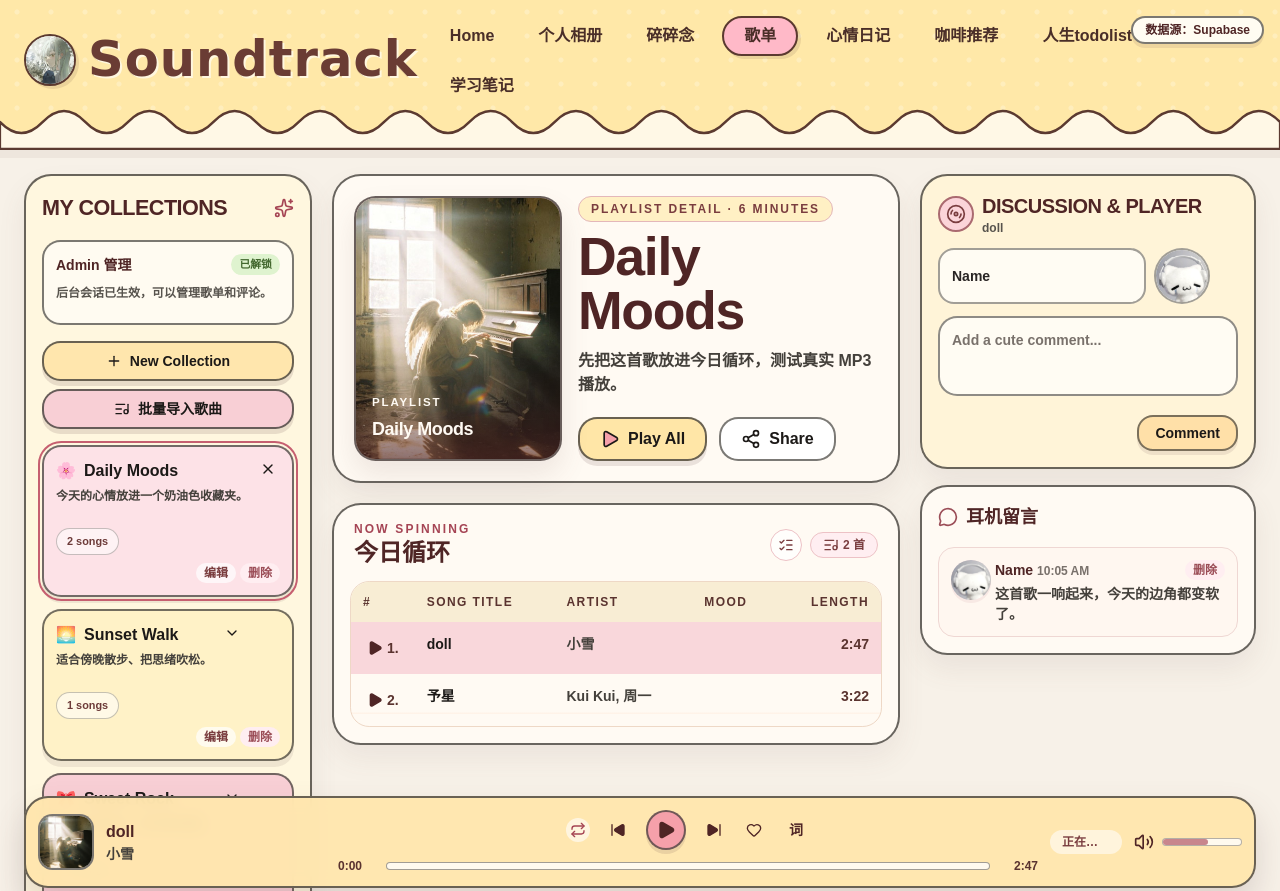
Test: PlaylistsPageView › creates a collection and switches to its empty state
Expected: the text "已解锁" is shown, [231,254,280,275]
Click the button "New Collection": click(168, 361) [42,341,294,381]
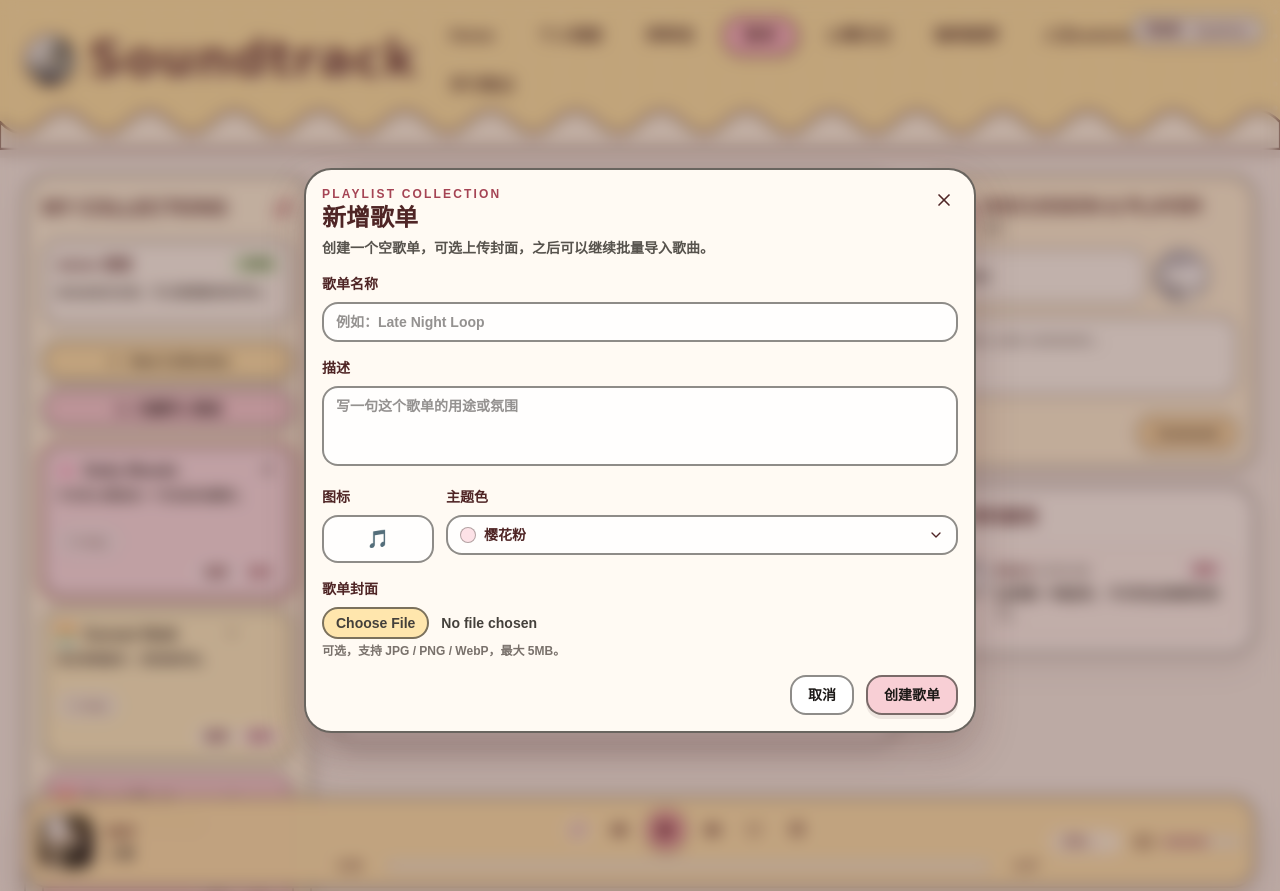
In the field labelled "歌单名称": (640, 322) [322,302,958,342], type "Late Night Loop"
In the text box labelled "描述": (640, 426) [322,386,958,466], type "夜里慢慢听。"
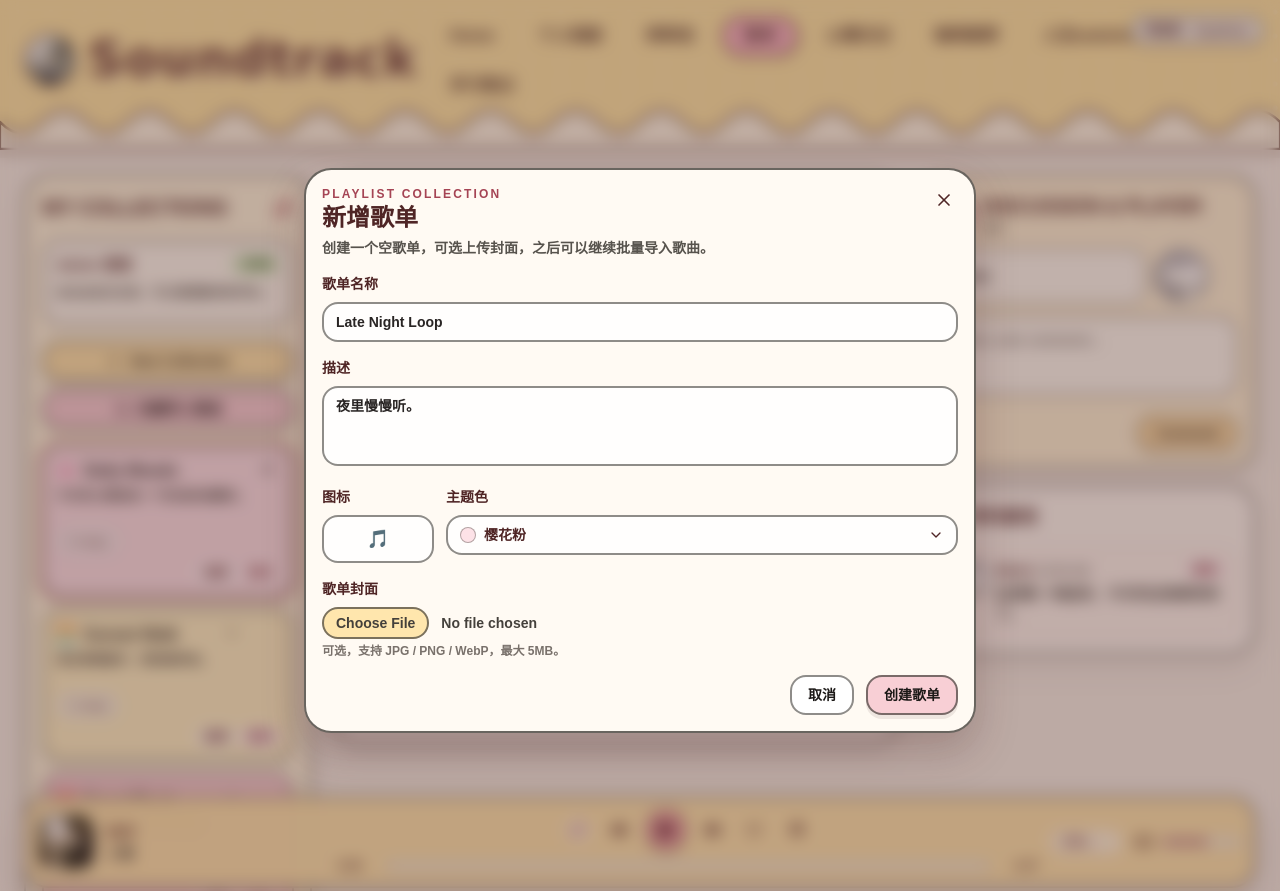
Replace the text in the field labelled "图标" with "🌙": (378, 538) [322,514,434,562]
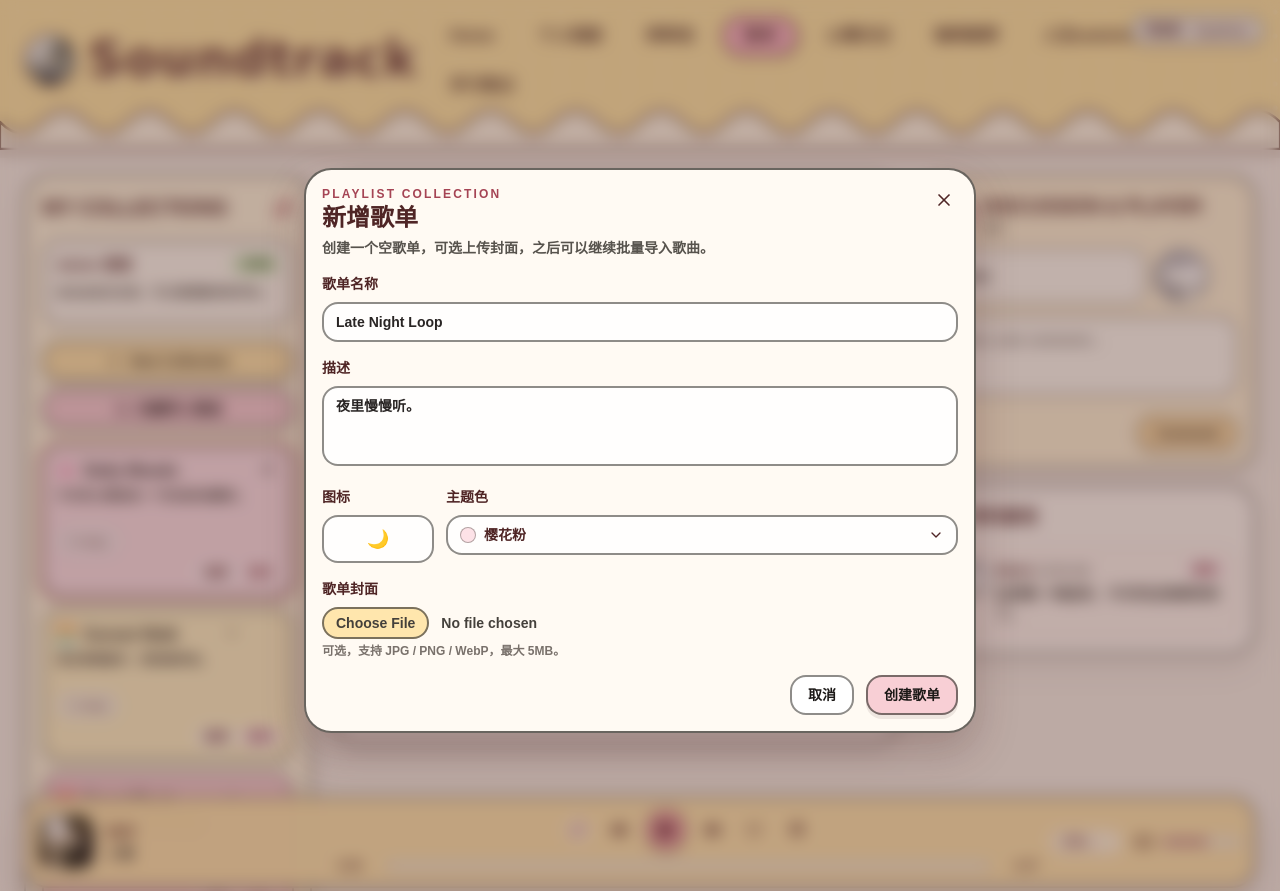
Click the dropdown named "主题色": click(505, 534) [446,514,958,554]
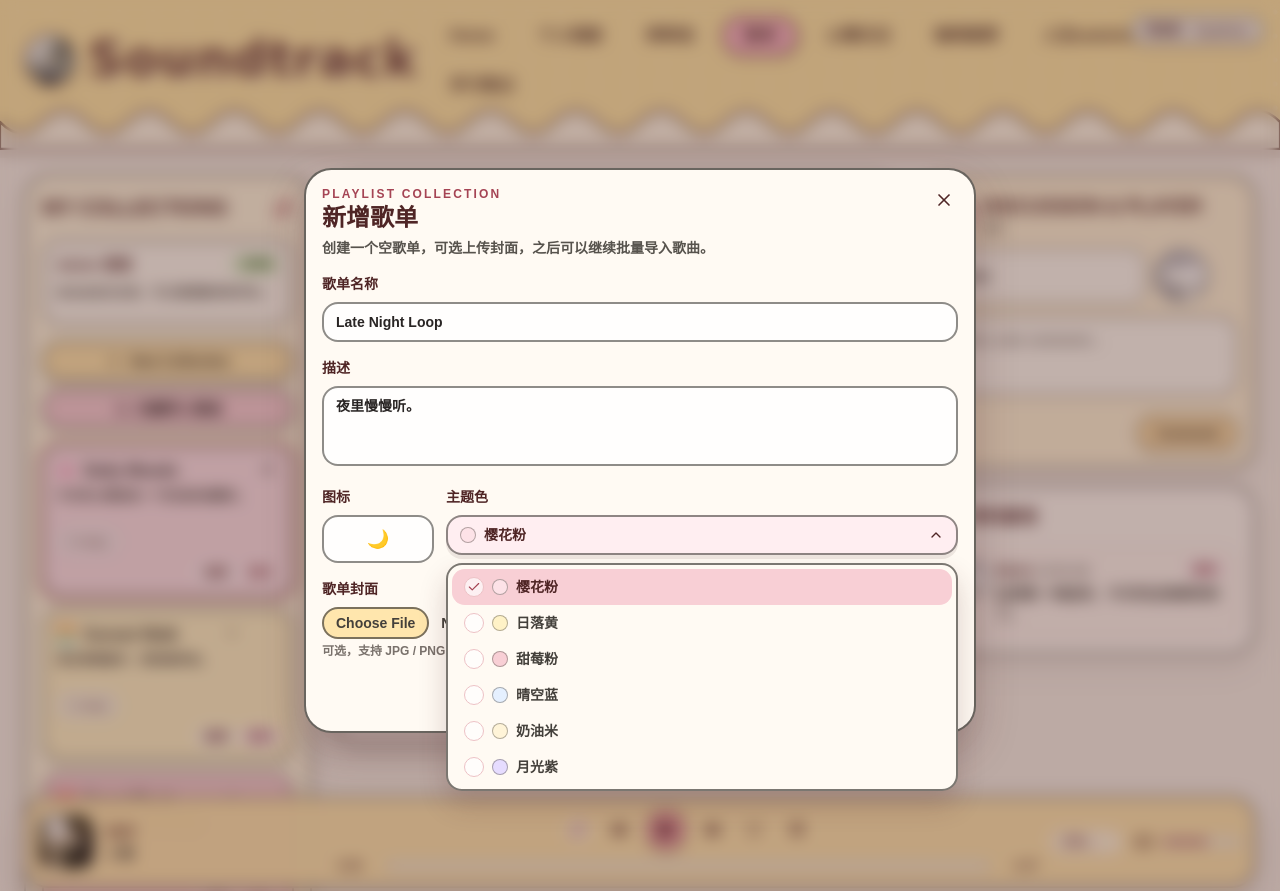
Click the option "晴空蓝": click(511, 694) [464,684,558,704]
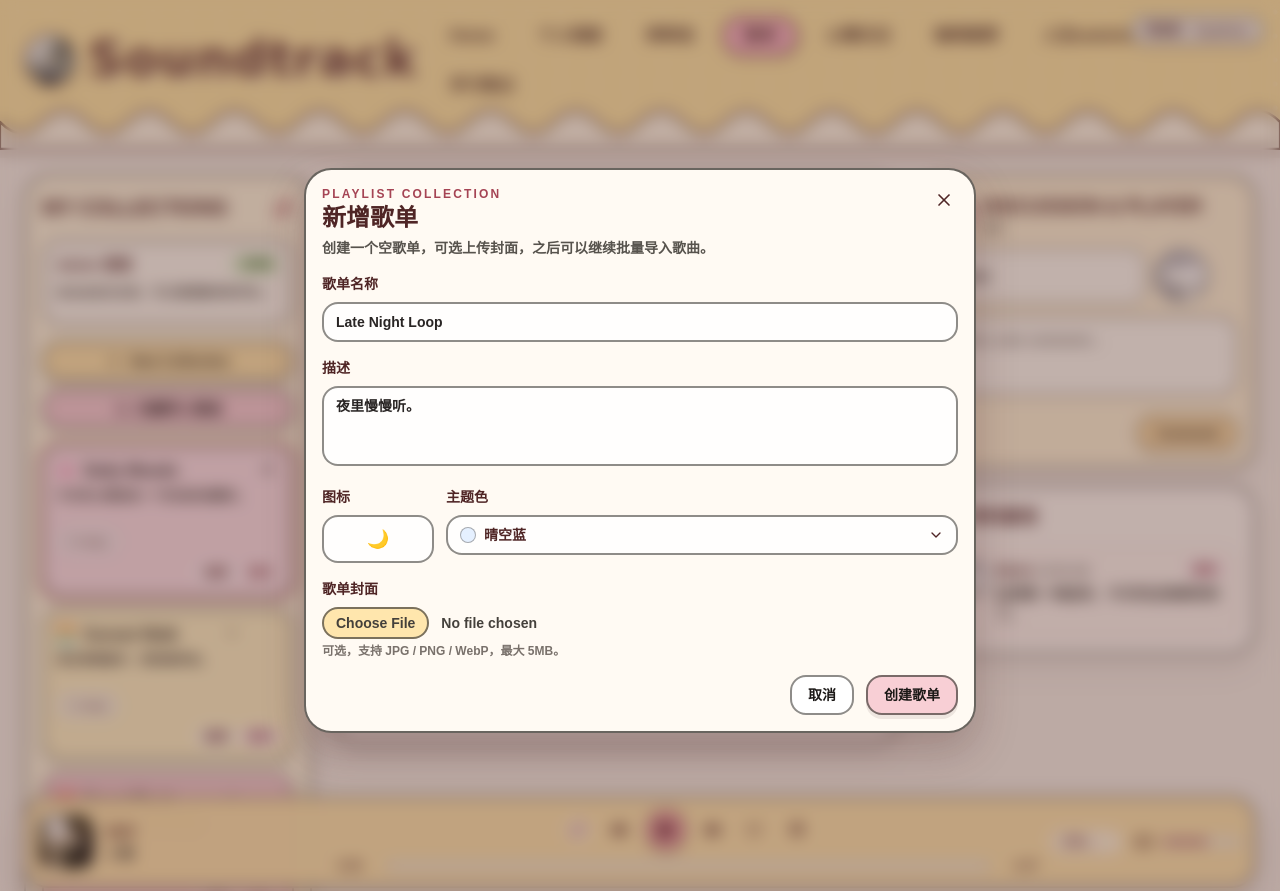
Click the button "创建歌单": click(912, 694) [866,674,958,714]
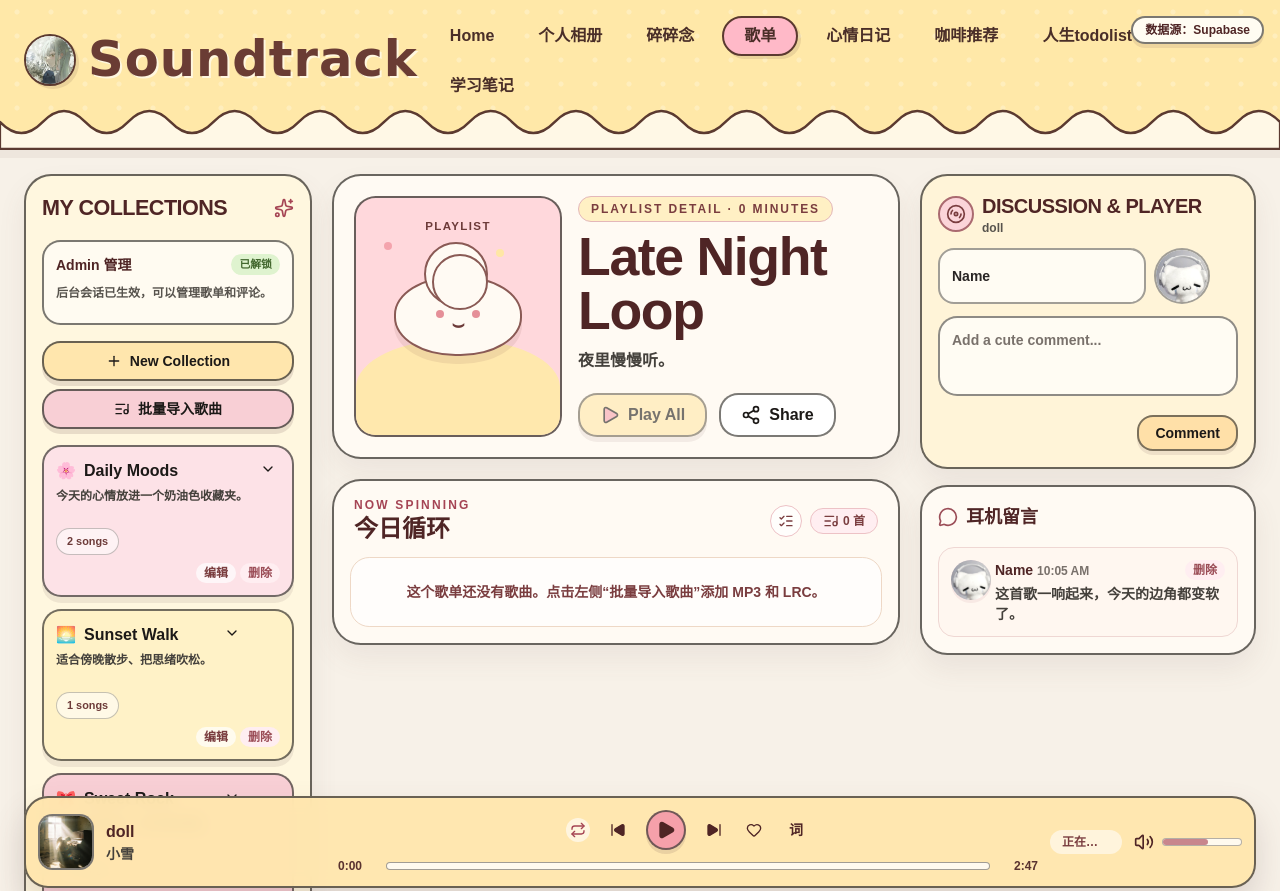
Expected: the heading "Late Night Loop" is shown, [578,226,827,340]
Expected: the text "这个歌单还没有歌曲。点击左侧“批量导入歌曲”添加 MP3 和 LRC。" is shown, [350,557,882,627]
